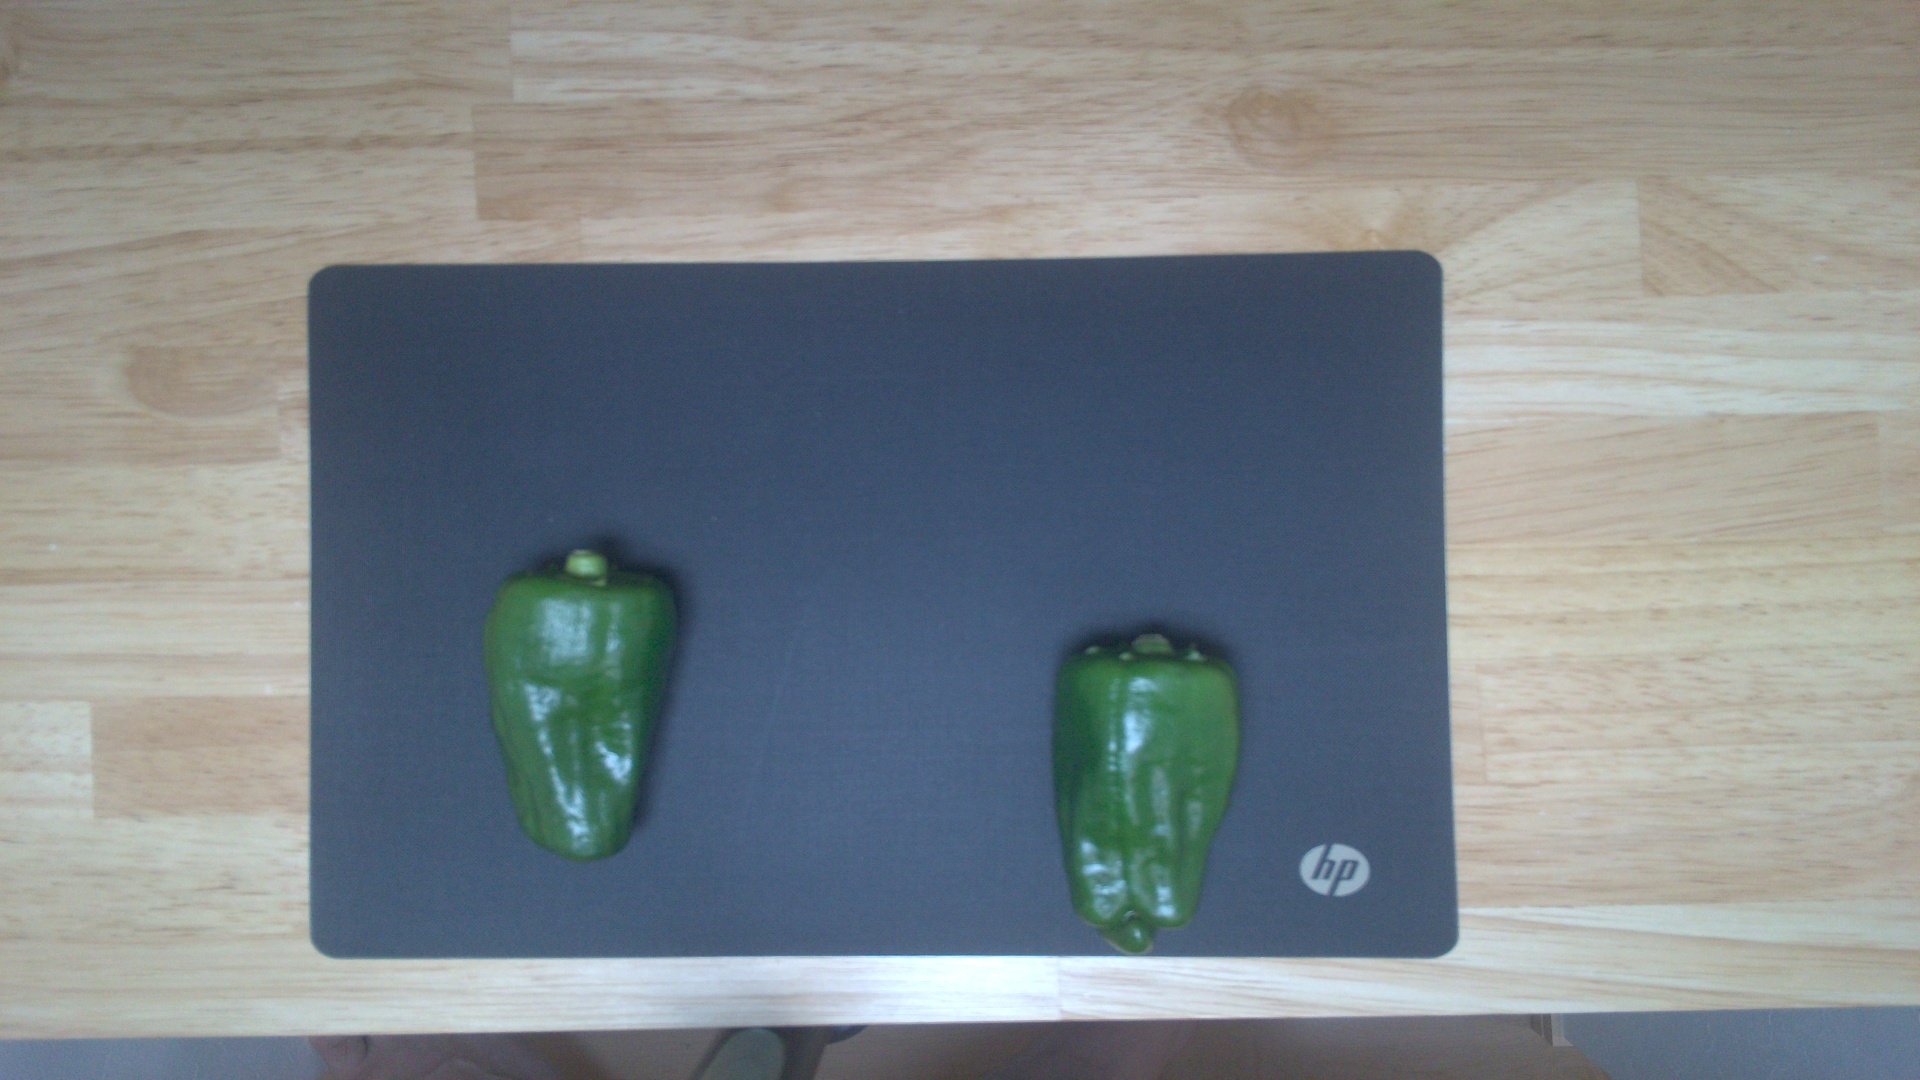Piman: (477, 546, 680, 858), (1051, 628, 1244, 948)
